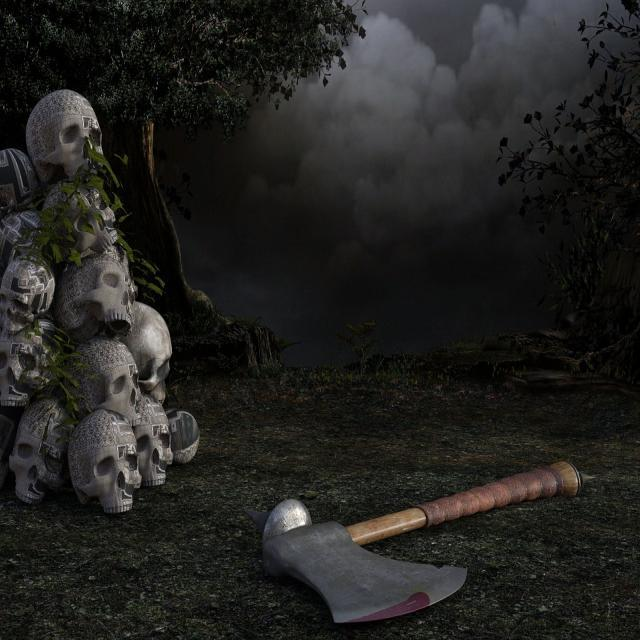Axe: (250, 461, 582, 622)
